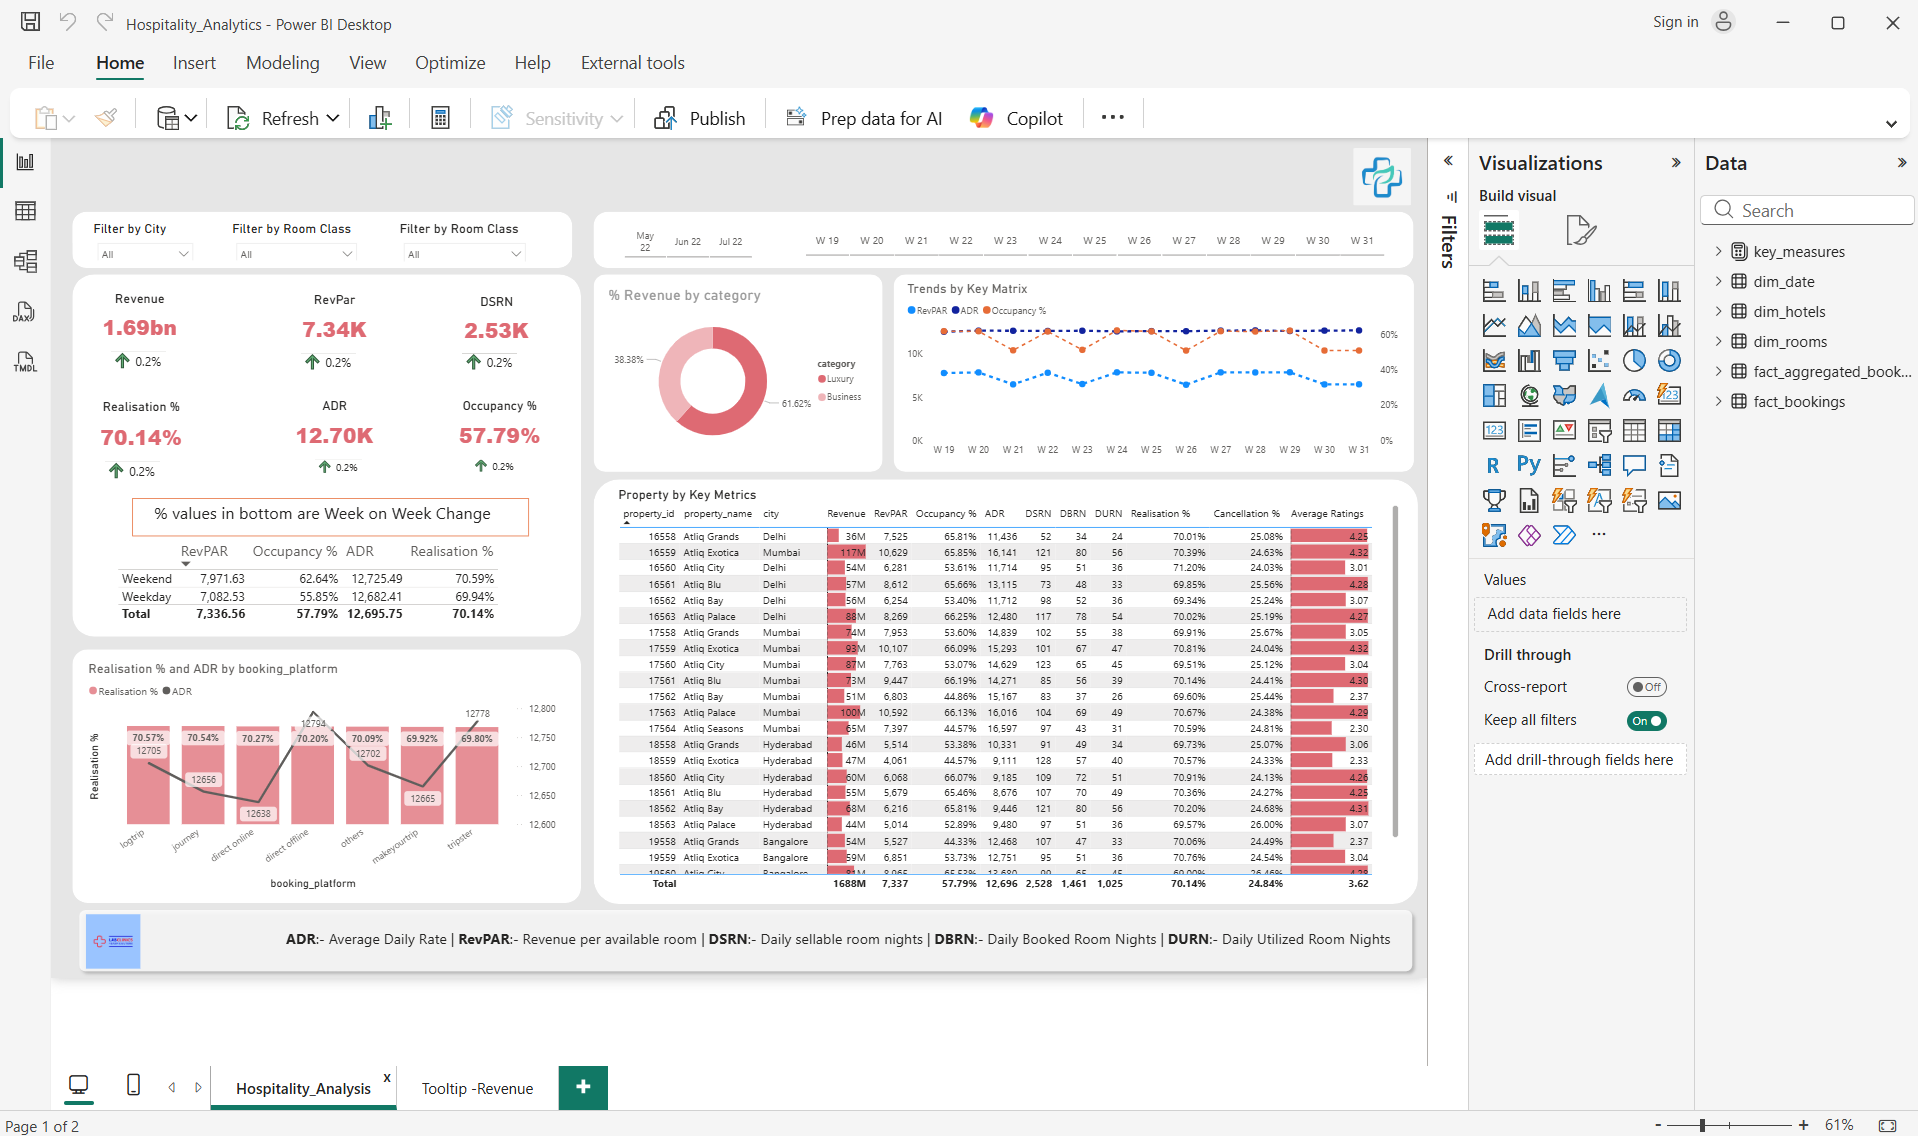

What the dashboard file says about the page in this screenshot:
{"tool":"powerbi","page":{"name":"Hospitality_Analysis","canvas":[1800,1100],"ordinal":0},"visuals":[{"type":"shape","box":[710.1,445.8,1078.7,555.7],"z":0},{"type":"shape","box":[27.8,668.8,665.5,331.9],"z":1000},{"type":"shape","box":[1101.8,177.5,681.2,258.6],"z":2000},{"type":"shape","box":[710.1,177.5,378.2,258.6],"z":3000},{"type":"shape","box":[27.8,178.2,665.5,474.2],"z":4000},{"type":"shape","box":[709.7,96.5,1072.7,73.6],"z":5000},{"type":"shape","box":[27.8,96.5,654.1,73.6],"z":6000},{"type":"tableEx","title":"Property by Key Metrics","fields":{"Values":["dim_hotels.property_id","dim_hotels.property_name","dim_hotels.city","key_measures.Revenue","key_measures.RevPAR","key_measures.Occupancy %","key_measures.ADR","key_measures.DSRN","key_measures.DBRN","key_measures.DURN","key_measures.Realisation %","key_measures.Cancellation %"]},"box":[737.1,455.4,1030.4,532.6],"z":7000},{"type":"slicer","title":"Filter by City","fields":{"Values":["dim_hotels.city"]},"box":[50.7,107.9,145.5,52.3],"z":8000},{"type":"slicer","title":"Filter by Room Class","fields":{"Values":["dim_rooms.room_class"]},"box":[232.2,107.9,178.2,52.3],"z":9000},{"type":"donutChart","title":"% Revenue by category","fields":{"Category":["dim_hotels.category"],"Y":["key_measures.Revenue"]},"box":[723.6,194.9,351.2,225.8],"z":10000},{"type":"lineChart","title":"Trends by Key Matrix","fields":{"Category":["dim_date.mmm yy.Variation.Date Hierarchy.Month","dim_date.week no"],"Y":["key_measures.RevPAR","key_measures.ADR"],"Y2":["key_measures.Occupancy %"]},"box":[1115.4,187.2,652.2,239.3],"z":11000},{"type":"lineStackedColumnComboChart","fields":{"Category":["fact_bookings.booking_platform"],"Y":["key_measures.Realisation %"],"Y2":["key_measures.ADR"]},"box":[44.4,683.1,621.4,304.9],"z":12000},{"type":"tableEx","fields":{"Values":["dim_date.day_type","key_measures.RevPAR","key_measures.Occupancy %","key_measures.ADR","key_measures.Realisation %"]},"box":[81,521,584.7,117.7],"z":13000},{"type":"tableEx","fields":{"Values":["key_measures.Revenue WoW change %"]},"box":[320.3,250.9,84.9,59.8],"z":15000},{"type":"tableEx","fields":{"Values":["key_measures.Revenue WoW change %"]},"box":[530.7,250.9,90.7,59.8],"z":16000},{"type":"tableEx","fields":{"Values":["key_measures.Revenue WoW change %"]},"box":[63.7,391.7,96.5,59.8],"z":17000},{"type":"tableEx","fields":{"Values":["key_measures.Revenue WoW change %"]},"box":[337.7,389.8,84.9,56],"z":18000},{"type":"tableEx","fields":{"Values":["key_measures.Revenue WoW change %"]},"box":[542.2,387.9,83,59.8],"z":19000},{"type":"card","title":"DSRN","fields":{"Values":["key_measures.DSRN"]},"box":[519.1,204.5,129.3,77.2],"z":20000},{"type":"card","title":"Occupancy %","fields":{"Values":["key_measures.Occupancy %"]},"box":[526.8,339.6,121.6,81],"z":21000},{"type":"card","title":"ADR","fields":{"Values":["key_measures.ADR"]},"box":[303,339.6,137,81],"z":22000},{"type":"card","title":"Realisation %","fields":{"Values":["key_measures.Realisation %"]},"box":[56,341.6,125.4,81],"z":23000},{"type":"card","title":"RevPar","fields":{"Values":["key_measures.RevPAR"]},"box":[303,200.7,137,81],"z":24000},{"type":"tableEx","fields":{"Values":["key_measures.Revenue WoW change %"]},"box":[71.8,248.2,86.8,61.7],"z":25000},{"type":"card","title":"Revenue","fields":{"Values":["key_measures.Revenue"]},"box":[50.6,199.9,131.2,79.1],"z":26000},{"type":"slicer","fields":{"Values":["dim_date.mmm yy"]},"box":[724.4,107.9,215.8,52.3],"z":27000},{"type":"slicer","fields":{"Values":["dim_date.week no"]},"box":[961.5,107.9,806.1,52.3],"z":28000},{"type":"shape","box":[27,1001.5,1761.8,98.4],"z":29000},{"type":"textbox","box":[303,1030.4,1464.6,48.2],"z":30000},{"type":"slicer","title":"Filter by Room Class","fields":{"Values":["dim_rooms.room_class"]},"box":[451.3,107.9,179.9,54],"z":31000},{"type":"textbox","box":[90.7,470.8,530.7,50.2],"z":31001},{"type":"shape","box":[106.1,470.8,519.1,50.2],"z":31002},{"type":"image","box":[1700.6,13.1,81.8,75.2],"z":31003},{"type":"image","box":[42.5,1015,77.2,71.4],"z":31004}]}

Visuals, with their boxes on the page's 1800x1100 design canvas (x1, y1, x2, y2). These are canvas units, not pixel positions in the 1918x1136 screenshot, which may show the page scaled, cropped or inside an application window:
shape: select_region(710, 446, 1789, 1002)
shape: select_region(28, 669, 693, 1001)
shape: select_region(1102, 178, 1783, 436)
shape: select_region(710, 178, 1088, 436)
shape: select_region(28, 178, 693, 652)
shape: select_region(710, 96, 1782, 170)
shape: select_region(28, 96, 682, 170)
"Property by Key Metrics" tableEx: select_region(737, 455, 1768, 988)
"Filter by City" slicer: select_region(51, 108, 196, 160)
"Filter by Room Class" slicer: select_region(232, 108, 410, 160)
"% Revenue by category" donutChart: select_region(724, 195, 1075, 421)
"Trends by Key Matrix" lineChart: select_region(1115, 187, 1768, 426)
lineStackedColumnComboChart - fact_bookings.booking_platform x key_measures.Realisation %: select_region(44, 683, 666, 988)
tableEx - dim_date.day_type x key_measures.RevPAR: select_region(81, 521, 666, 639)
tableEx - key_measures.Revenue WoW change %: select_region(320, 251, 405, 311)
tableEx - key_measures.Revenue WoW change %: select_region(531, 251, 621, 311)
tableEx - key_measures.Revenue WoW change %: select_region(64, 392, 160, 452)
tableEx - key_measures.Revenue WoW change %: select_region(338, 390, 423, 446)
tableEx - key_measures.Revenue WoW change %: select_region(542, 388, 625, 448)
"DSRN" card: select_region(519, 204, 648, 282)
"Occupancy %" card: select_region(527, 340, 648, 421)
"ADR" card: select_region(303, 340, 440, 421)
"Realisation %" card: select_region(56, 342, 181, 423)
"RevPar" card: select_region(303, 201, 440, 282)
tableEx - key_measures.Revenue WoW change %: select_region(72, 248, 159, 310)
"Revenue" card: select_region(51, 200, 182, 279)
slicer - dim_date.mmm yy: select_region(724, 108, 940, 160)
slicer - dim_date.week no: select_region(962, 108, 1768, 160)
shape: select_region(27, 1002, 1789, 1100)
textbox: select_region(303, 1030, 1768, 1079)
"Filter by Room Class" slicer: select_region(451, 108, 631, 162)
textbox: select_region(91, 471, 621, 521)
shape: select_region(106, 471, 625, 521)
image: select_region(1701, 13, 1782, 88)
image: select_region(42, 1015, 120, 1086)
